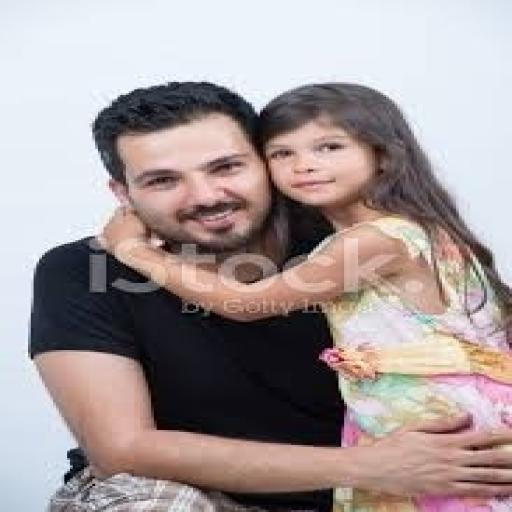hugging: (25, 78, 509, 510)
